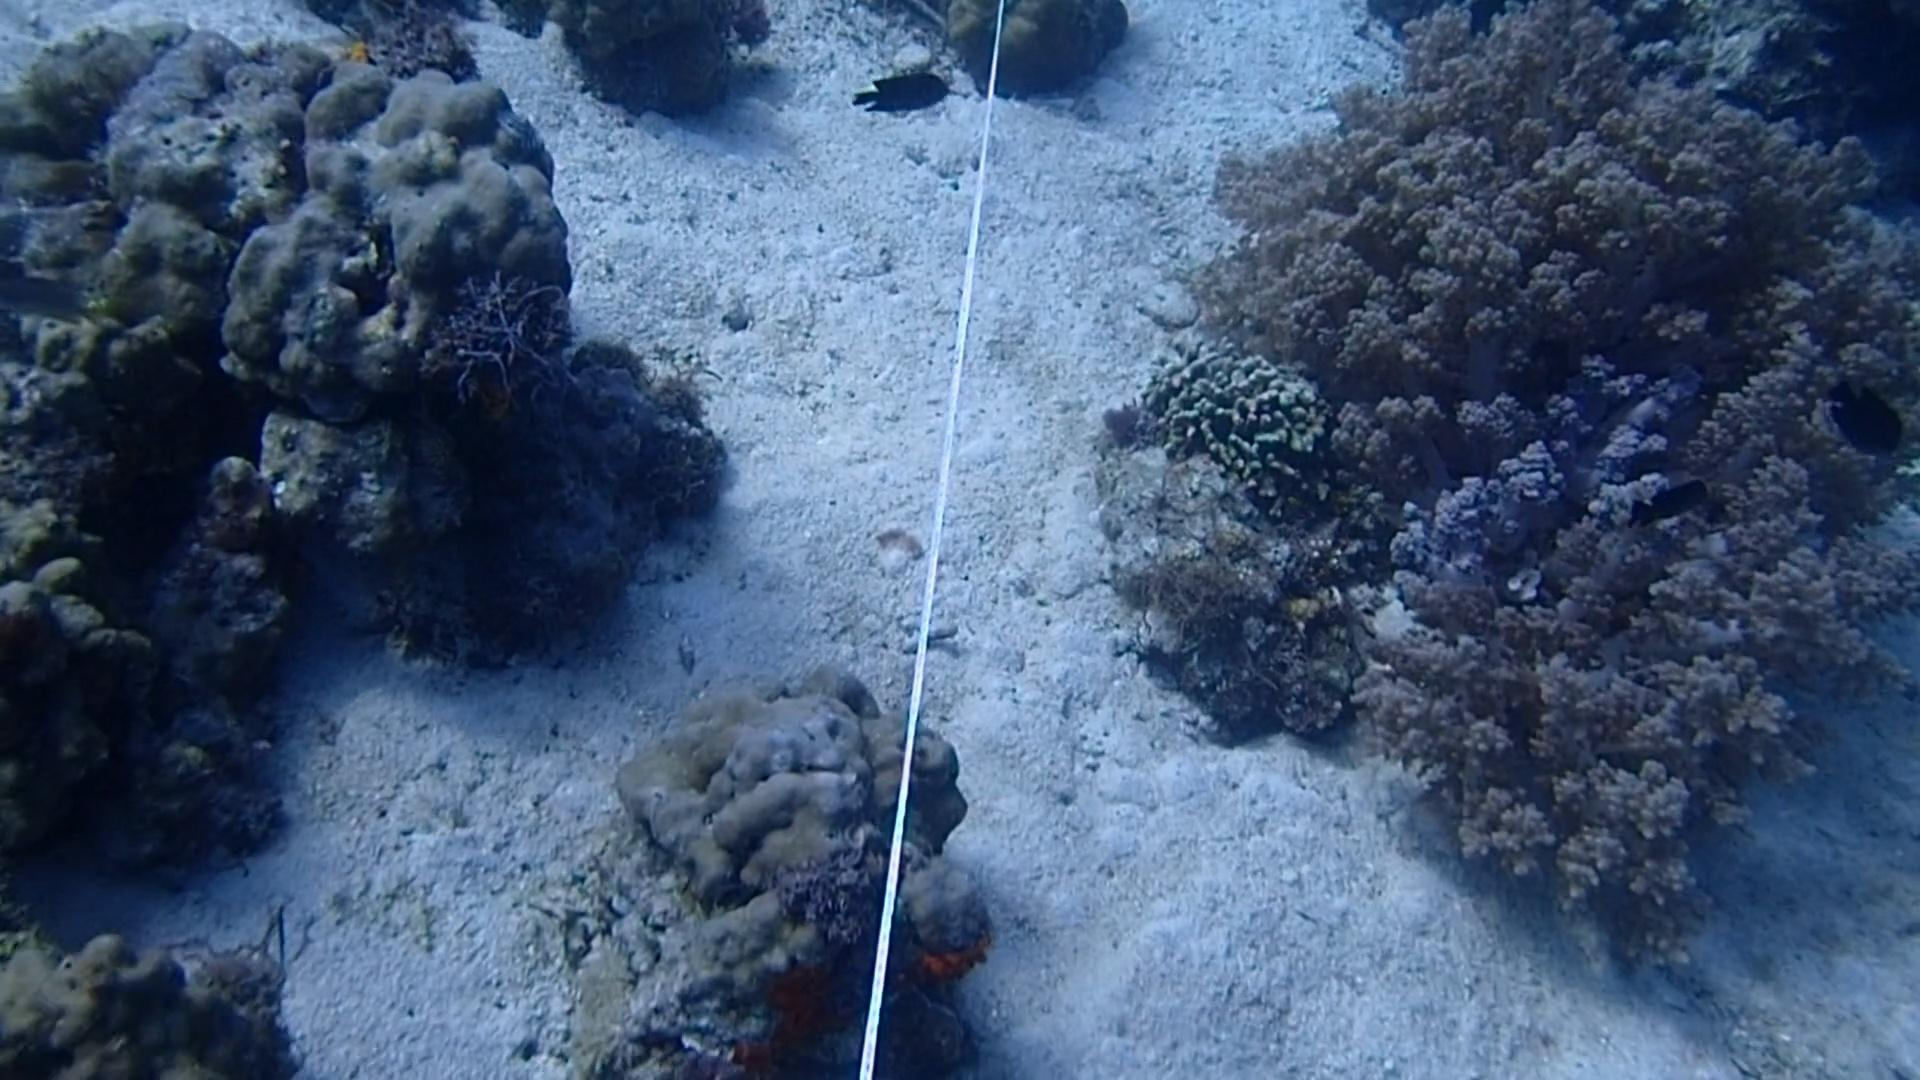Dark Fish: (1817, 369, 1913, 475), (840, 67, 957, 125), (1623, 473, 1712, 543)
